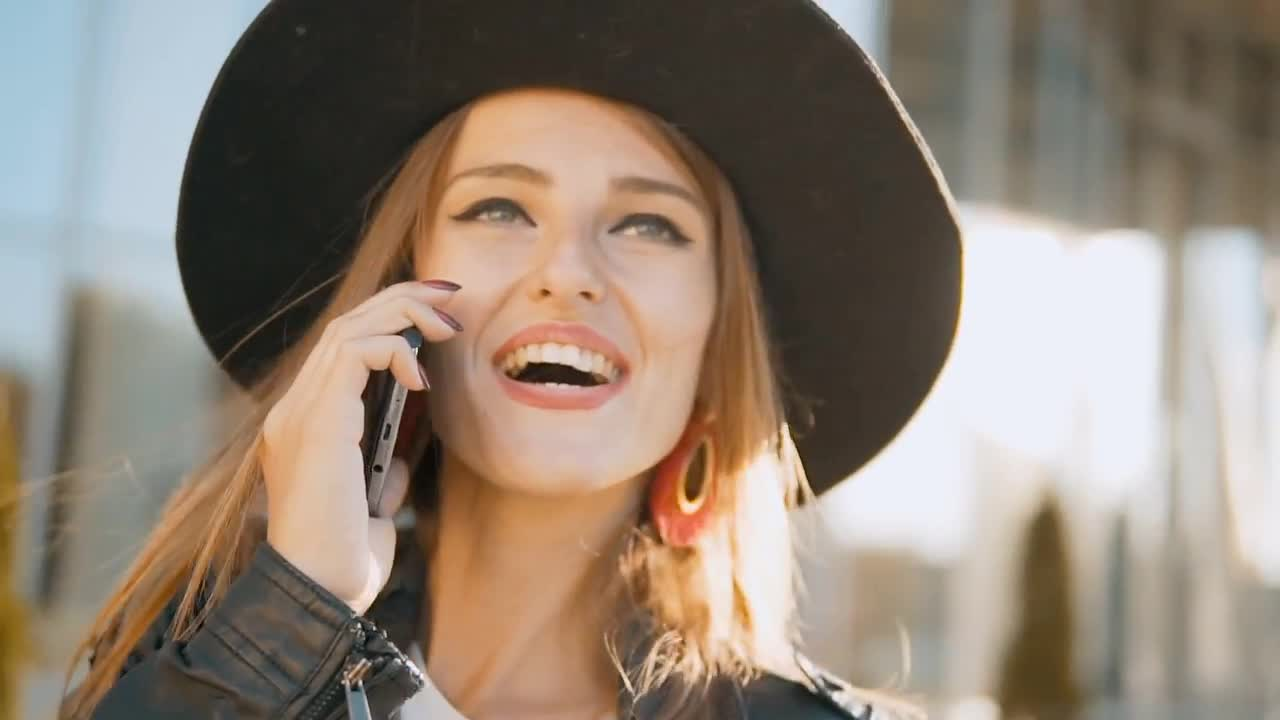phone: (323, 299, 432, 513)
talk: (261, 126, 738, 624)
